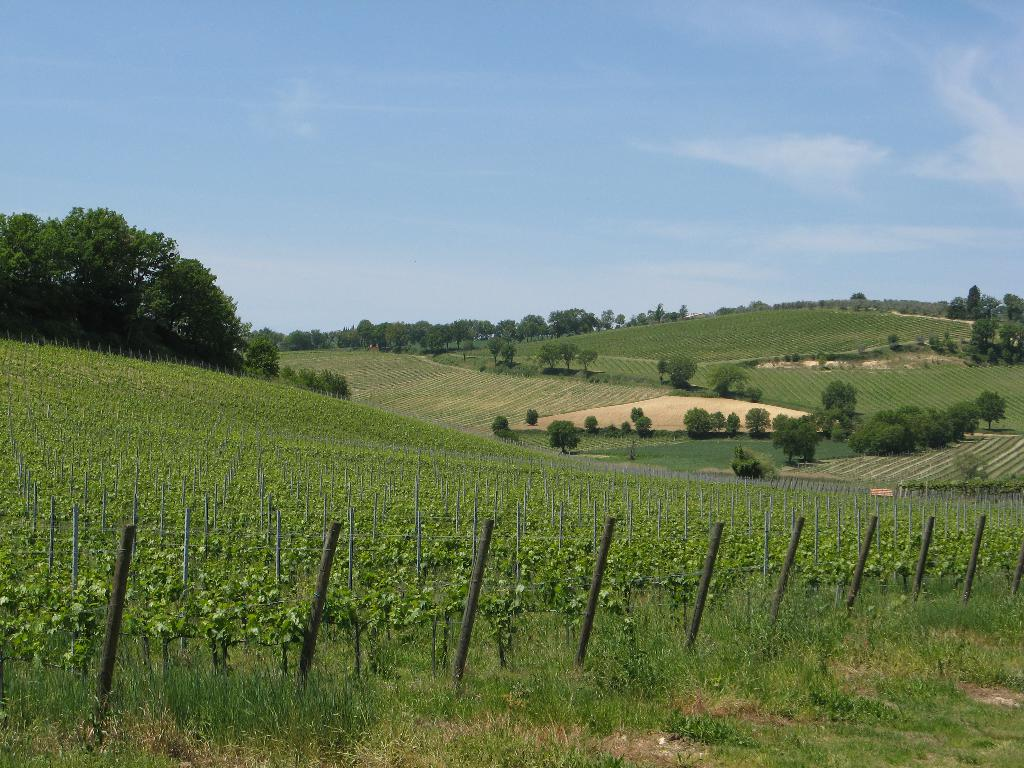Tree: (0, 204, 1024, 483)
